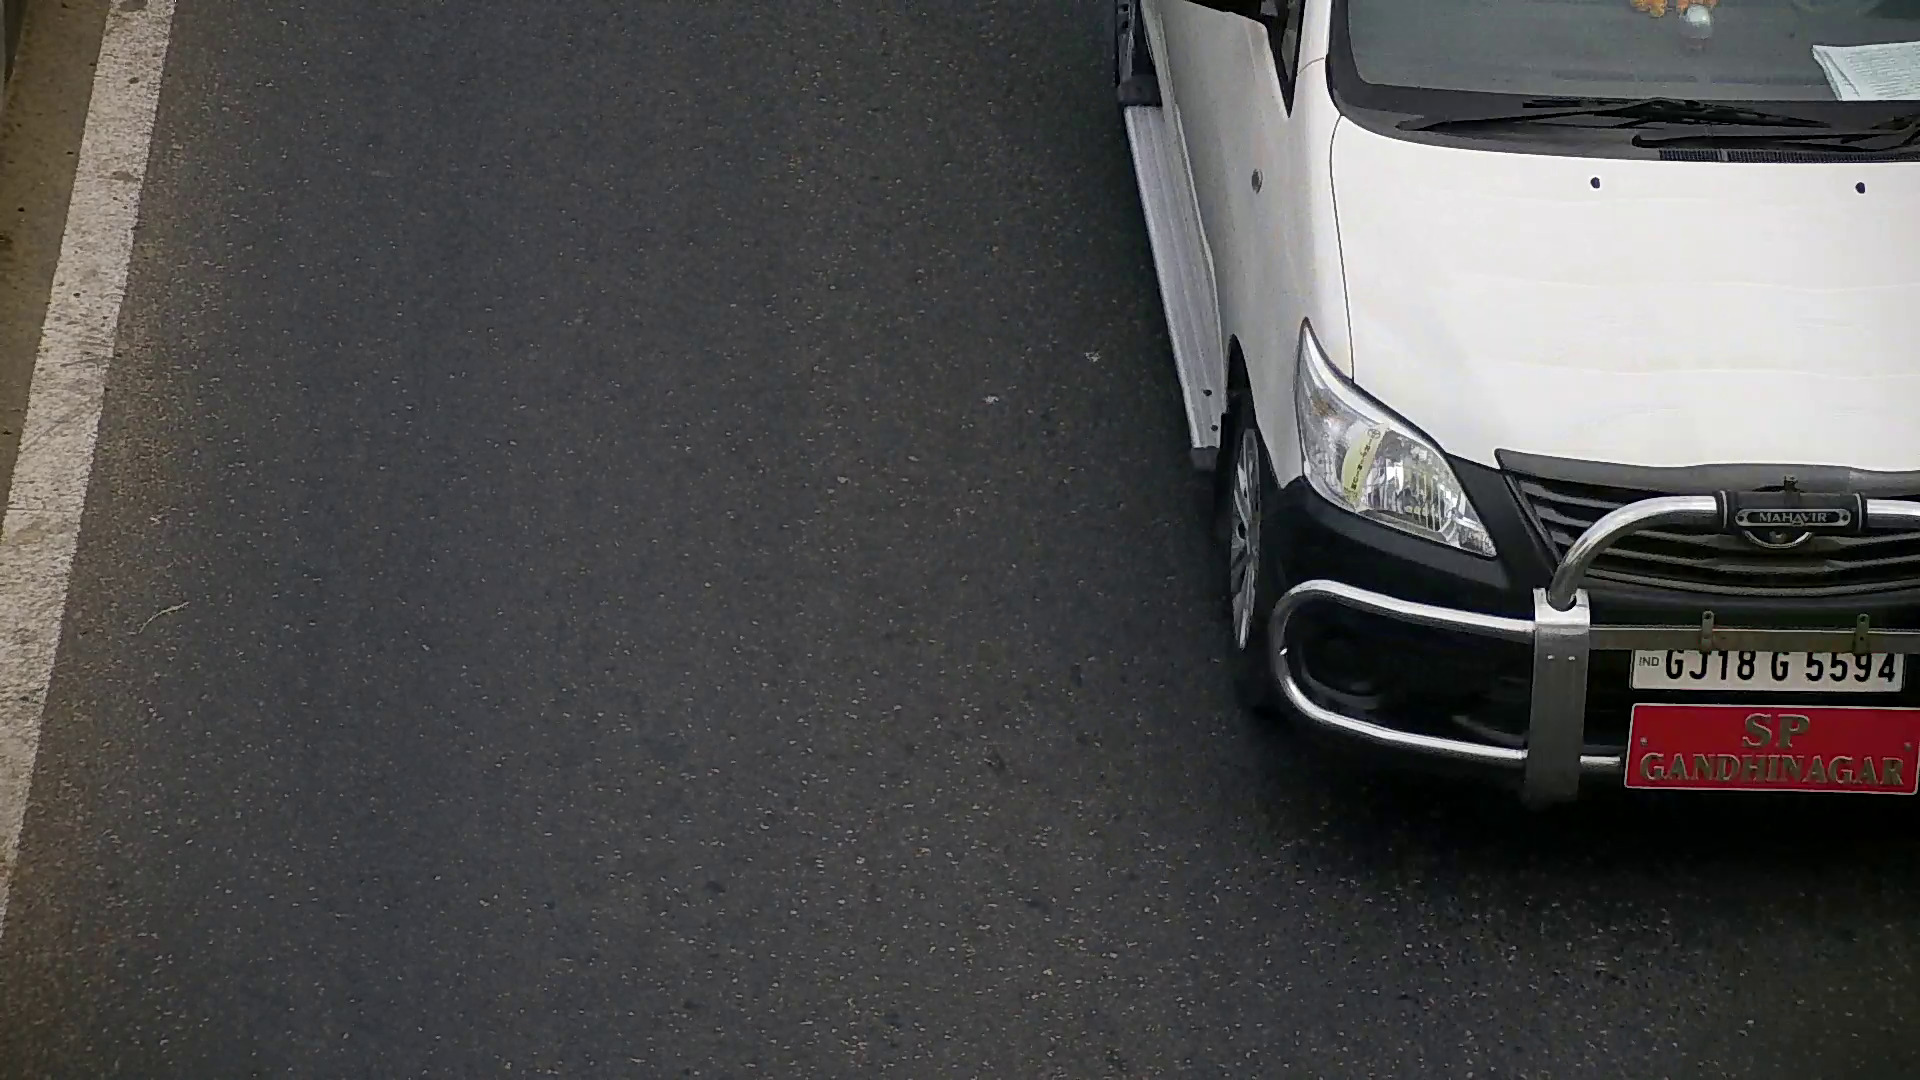numberplate: (1627, 645, 1908, 696)
